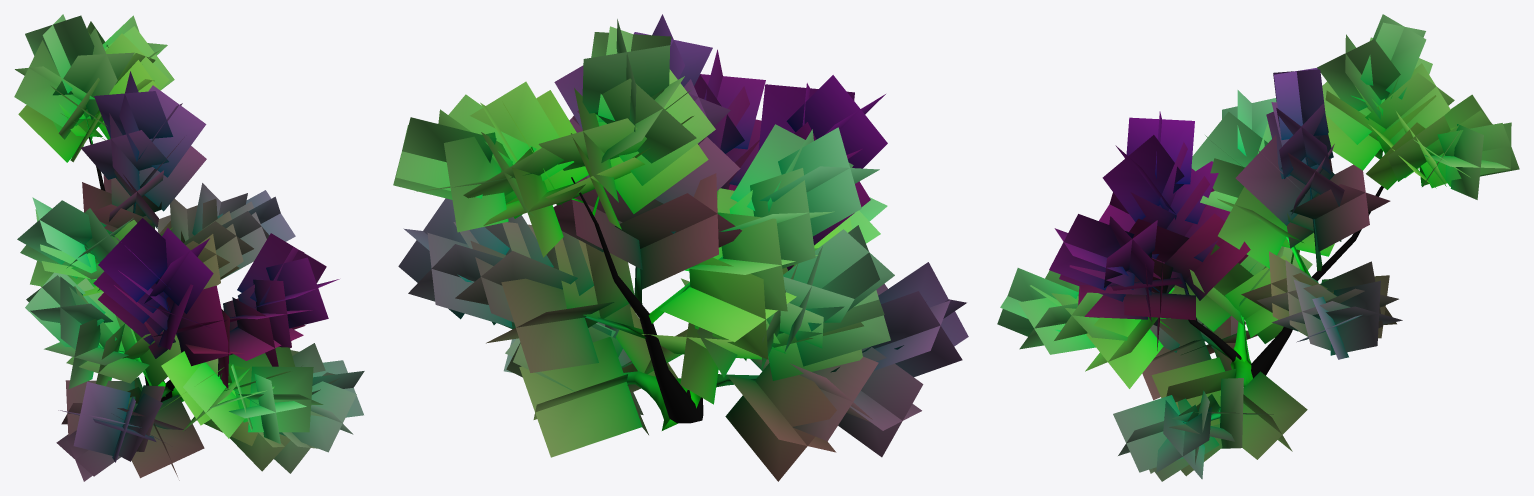
The model's file is URP_P11_Tree_6_LOD_3.fbx.
The picture shows the model from 3 angles, left to right: view 1: azimuth 30°, elevation 25°; view 2: azimuth 150°, elevation 25°; view 3: azimuth 270°, elevation 25°; orthographic projection. The views are drawn at different scales.
Parts seen in each view (by area): view 1: Tree_6_LOD_3; view 2: Tree_6_LOD_3; view 3: Tree_6_LOD_3.
Part boxes in pixels (x1,y1,x2,y2): Tree_6_LOD_3: (14, 14, 364, 481); Tree_6_LOD_3: (393, 14, 968, 481); Tree_6_LOD_3: (997, 14, 1519, 481).
Size of the model in its own units: 566 by 692 by 805.
